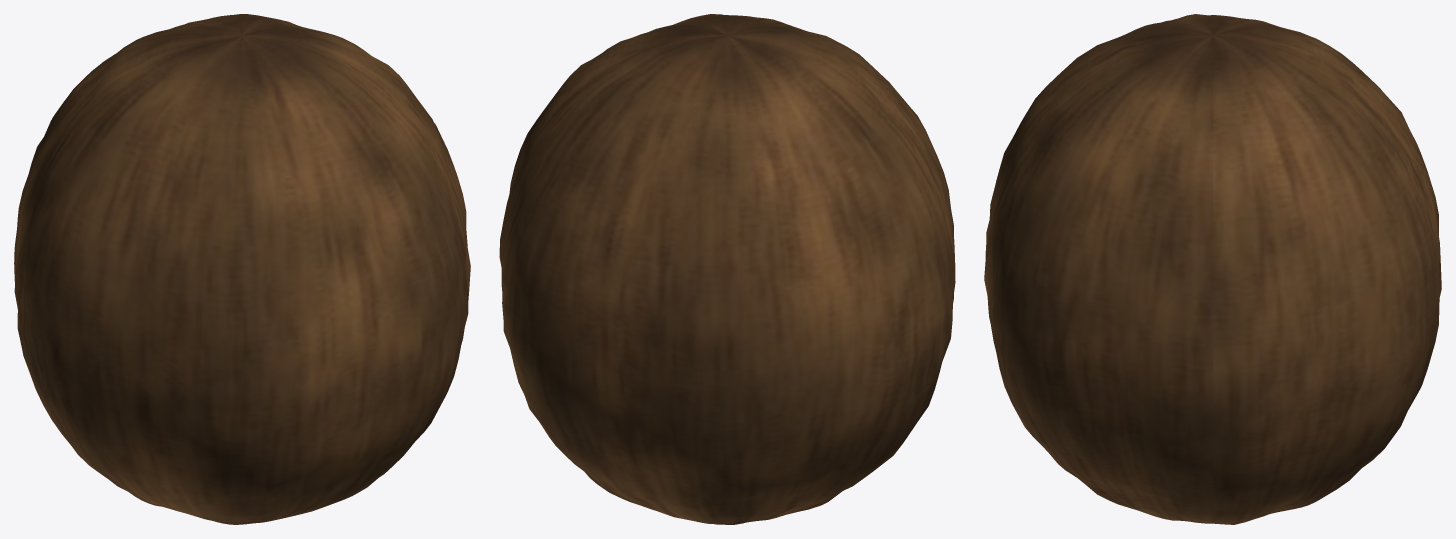
File: coconut.glb
3 views of the same model, side by side, from view 1: azimuth 30°, elevation 25°; view 2: azimuth 150°, elevation 25°; view 3: azimuth 270°, elevation 25° (orthographic).
Visible parts, largest first — view 1: Coconut; view 2: Coconut; view 3: Coconut.
Boxes of the visible parts, x1,y1,x2,y2 form: Coconut: (14, 14, 470, 524); Coconut: (499, 14, 955, 524); Coconut: (984, 14, 1441, 524).
Bounding box in the file's own units: 0.1265 × 0.137 × 0.1207.
Materials: 1 (1 with a texture image).
